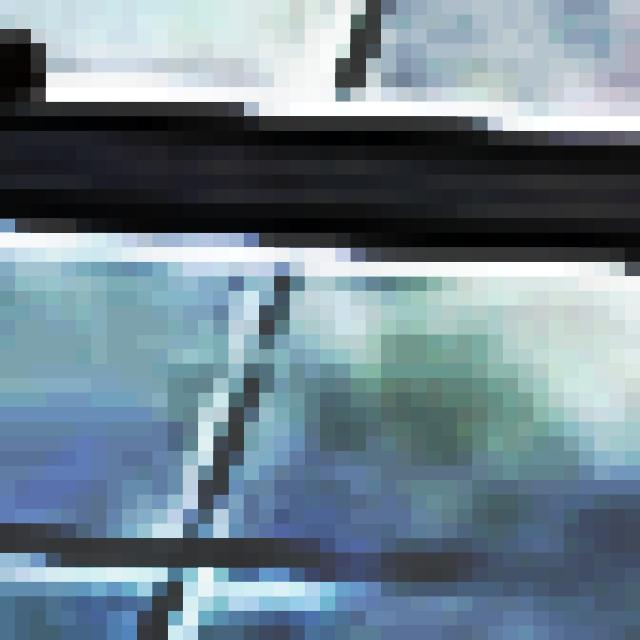arms: (0, 0, 107, 422)
